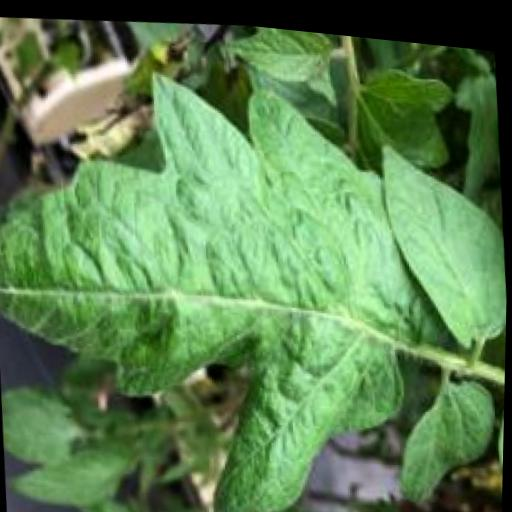Healthy: (0, 34, 449, 512), (369, 127, 510, 349), (391, 359, 505, 507), (228, 19, 339, 87)
